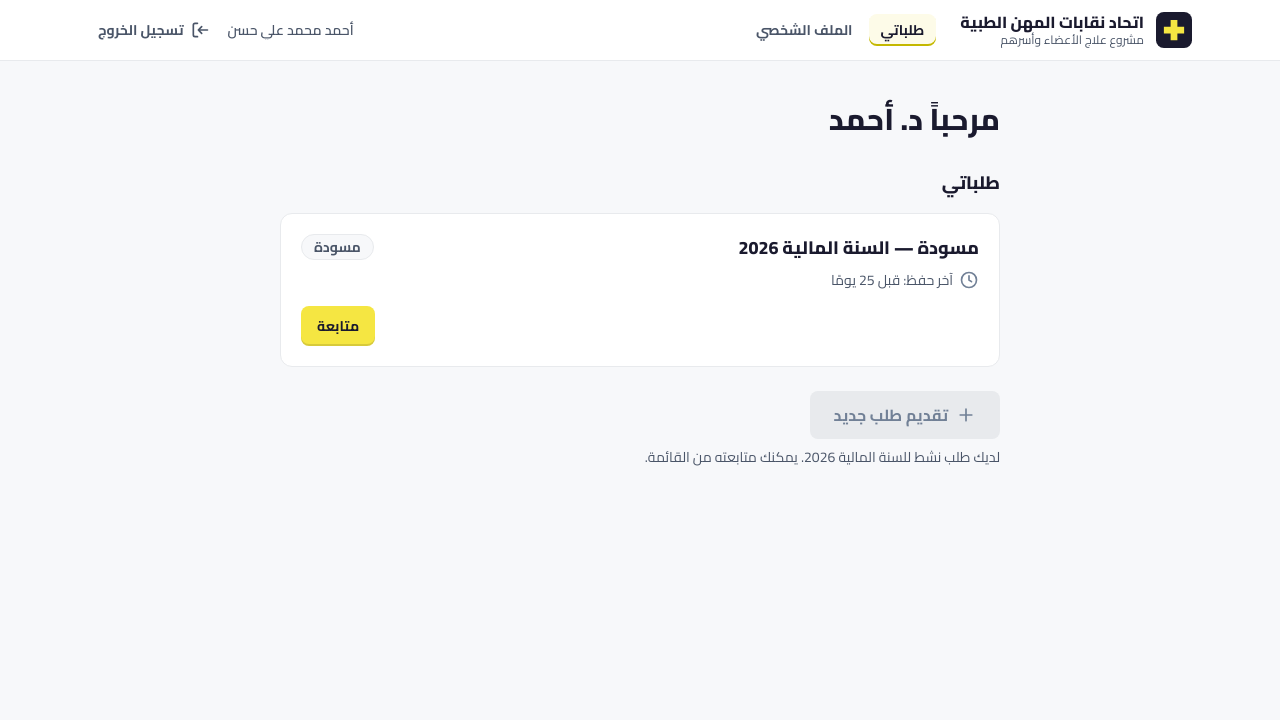
Test: sign-out › posts logout, clears the query cache and shows the signed-out page
Expected: the heading "مرحباً د. أحمد" is shown, x1=829 y1=91 x2=1000 y2=147
Step 1. Click the button "تسجيل الخروج" → (154, 30), box x1=88 y1=10 x2=220 y2=50
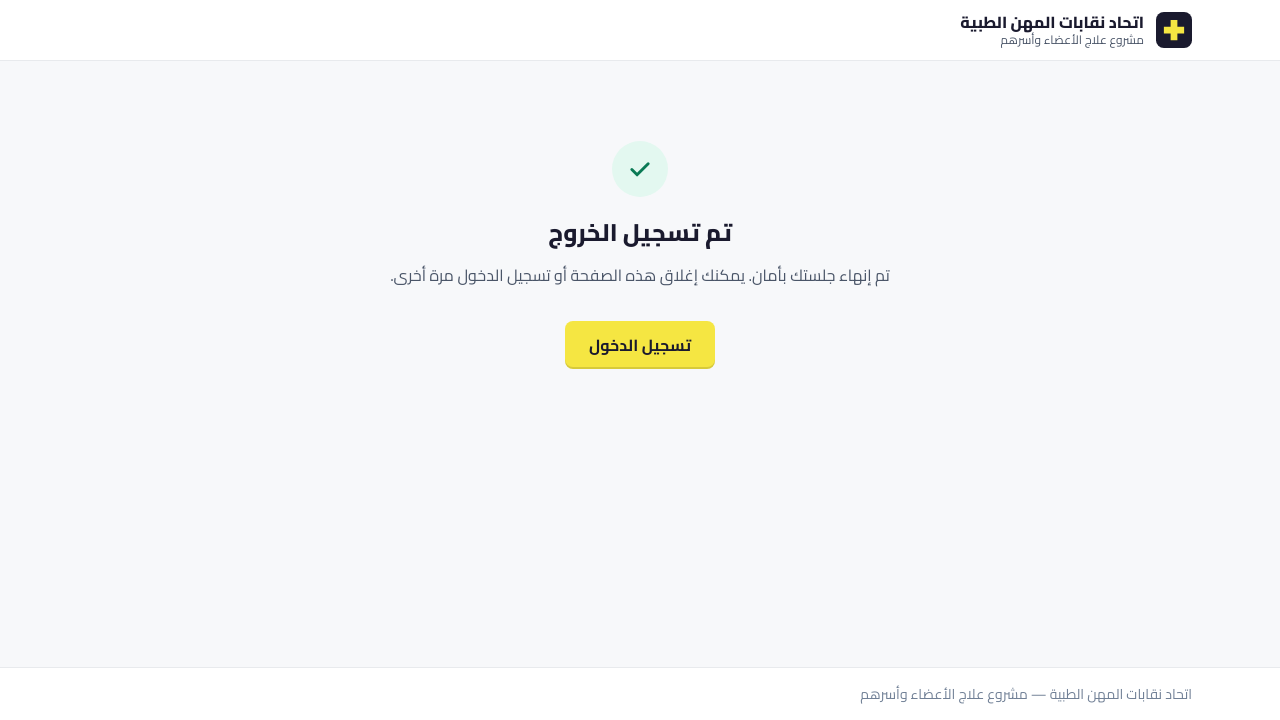
Expected: the heading "تم تسجيل الخروج" is shown, x1=548 y1=217 x2=732 y2=249
